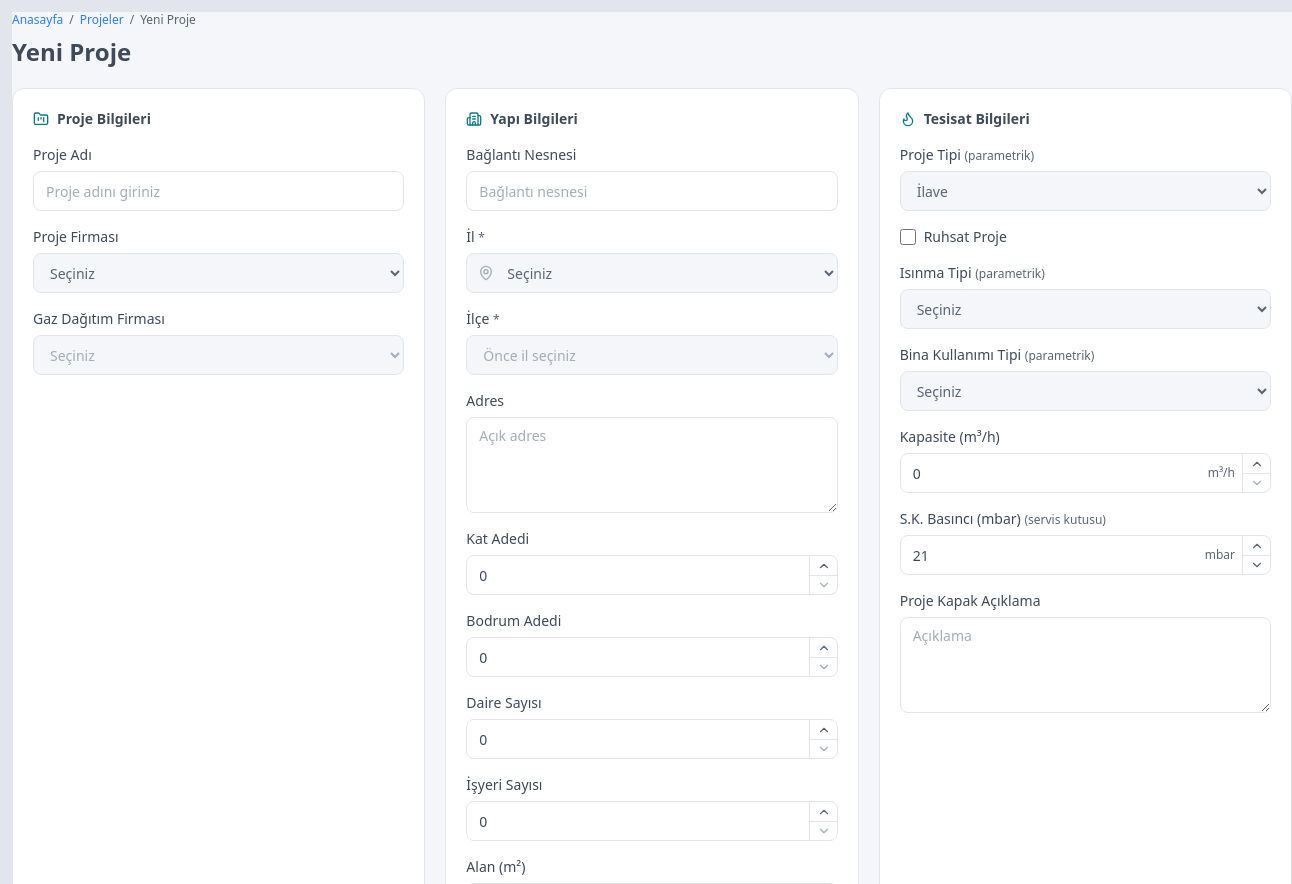
Test: NewProjectPage — firma kutularının kaynağı › firmanın geçerli yetkisi yoksa sebebini yazar
The image size is (1292, 884).
Select "Anadolu Mühendislik" in the dropdown labelled "Proje Firması": coordinates (219, 273) 33,253 -> 404,293
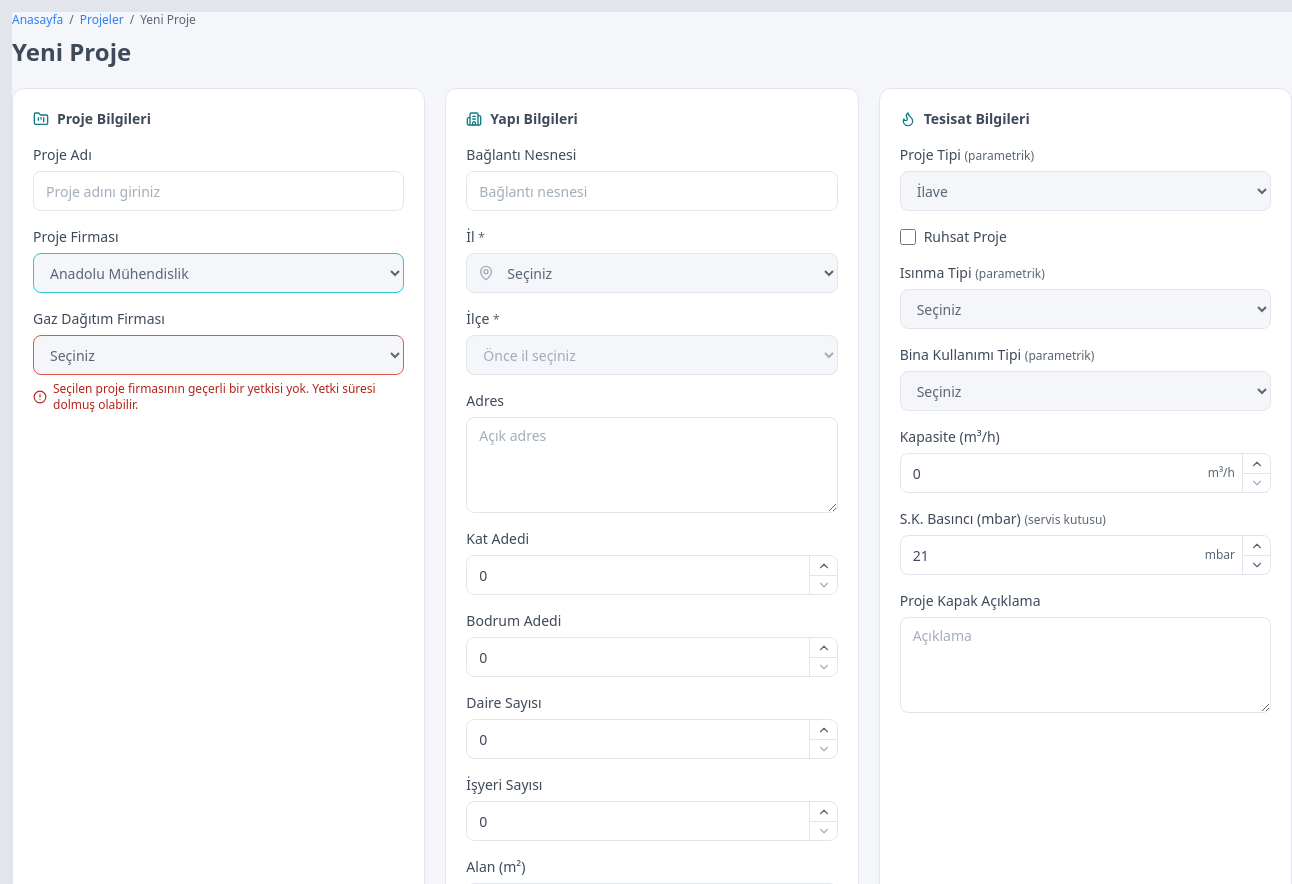
Now the text "geçerli bir yetkisi yok" is shown, box 53,380 -> 376,413
